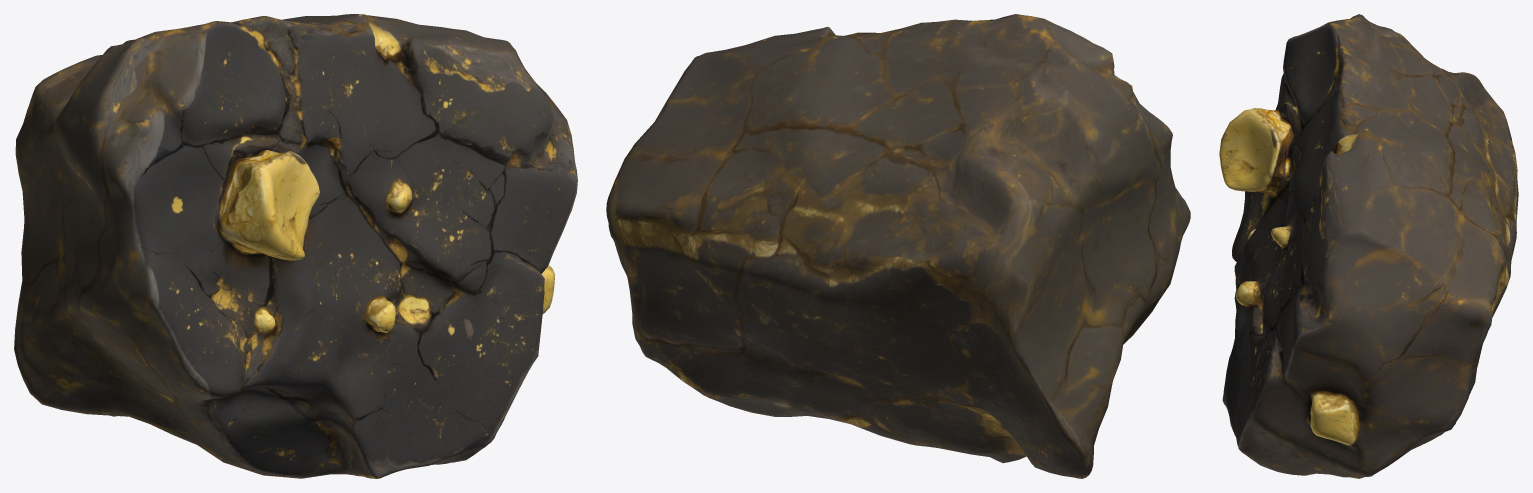
The model's file is Meshy_AI_a_mining_rock_with_go_0425053248_texture.fbx.
The picture shows the model from 3 angles, left to right: view 1: azimuth 30°, elevation 25°; view 2: azimuth 150°, elevation 25°; view 3: azimuth 270°, elevation 25°; orthographic projection. The views are drawn at different scales.
Parts seen in each view (by area): view 1: Mesh0; view 2: Mesh0; view 3: Mesh0.
Part boxes in pixels (left/top/right/bottom): Mesh0: left=14, top=14, right=577, bottom=478; Mesh0: left=606, top=14, right=1190, bottom=478; Mesh0: left=1219, top=14, right=1518, bottom=478.
Bounding box in the file's own units: 553 × 500 × 370.
Materials: 1 (1 with a texture image).
